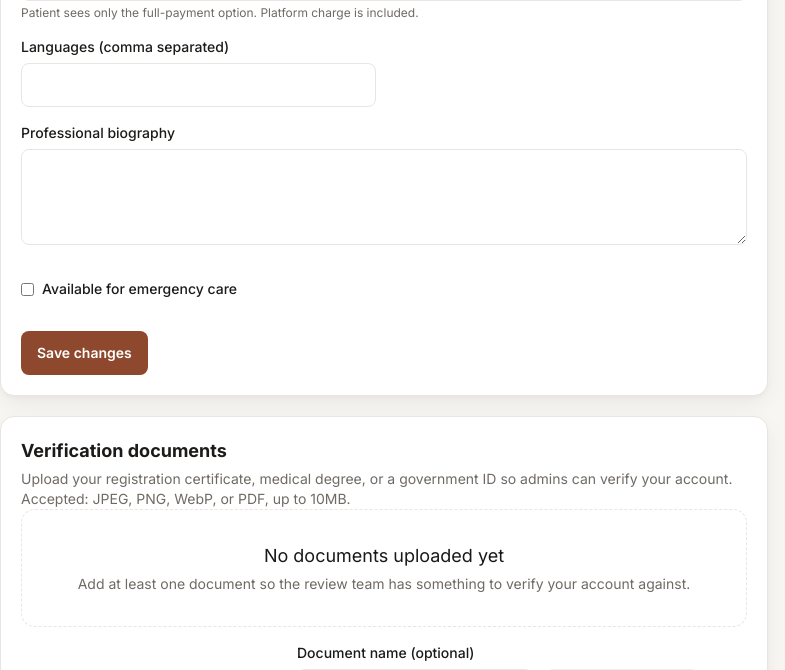
Scenario: DoctorProfileEdit › shows an inline error when saving the profile fails
The width and height of the screenshot is (785, 670).
(page scrolled)
Click the button "Save changes" at (84, 353), box [21, 331, 148, 375]
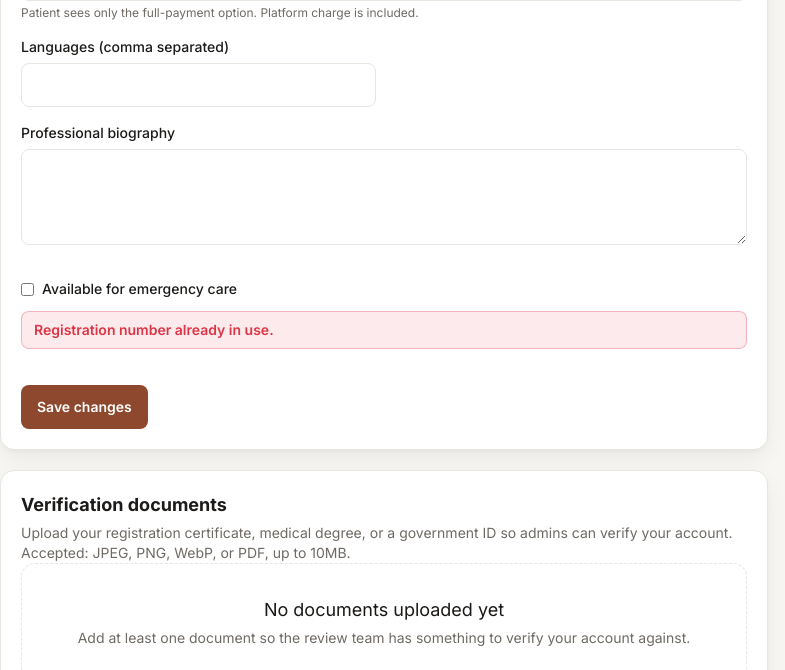
expect the text "Registration number already in use." is shown: met, box [21, 311, 747, 349]
